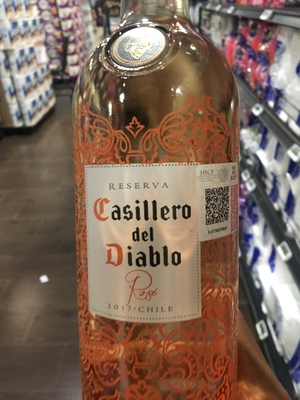casillero del diablo rose: (67, 10, 264, 398)
